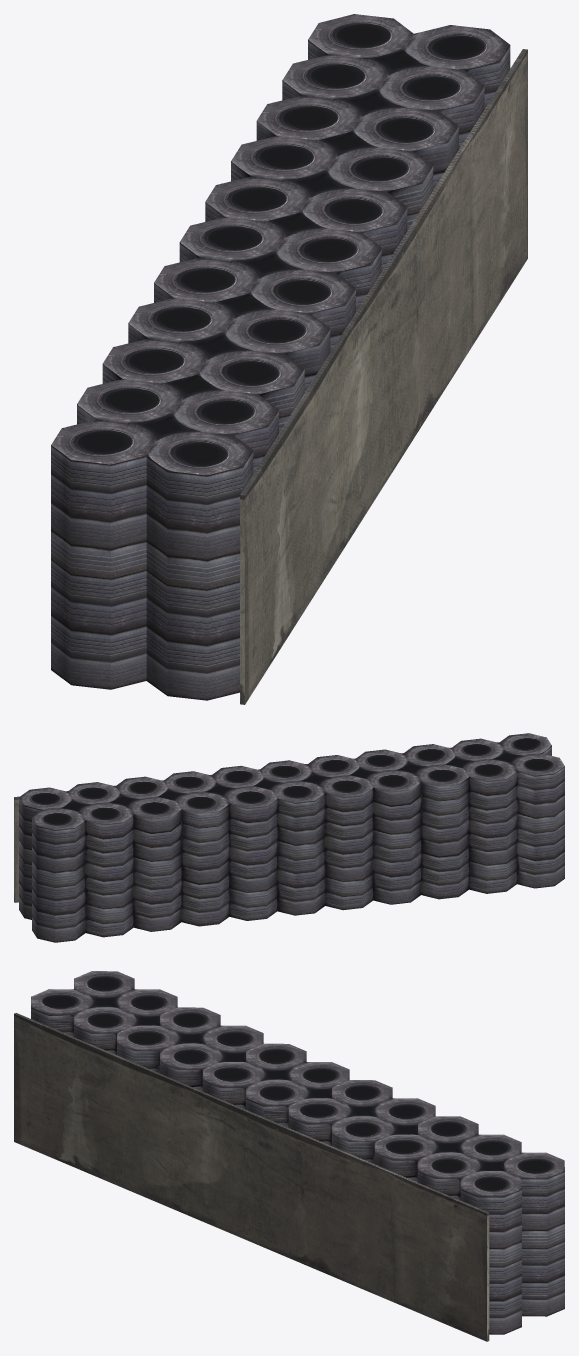
The model's file is Tyre_Wall_Covered_Corner_A.fbx.
3 renders of one model, top to bottom at view 1: azimuth 30°, elevation 25°; view 2: azimuth 150°, elevation 25°; view 3: azimuth 270°, elevation 25°, orthographic. The views are drawn at different scales.
Parts seen in each view (by area): view 1: Tyres, Cover; view 2: Tyres, Cover; view 3: Cover, Tyres.
Boxes of the visible parts, box(x1,y1,x2,y2) form: Tyres: box(51, 14, 510, 700); Cover: box(240, 49, 527, 704); Tyres: box(19, 733, 564, 942); Cover: box(14, 742, 499, 902); Cover: box(14, 1013, 489, 1341); Tyres: box(31, 971, 564, 1334).
Bounding box in the file's own units: 412 × 114 × 412.
